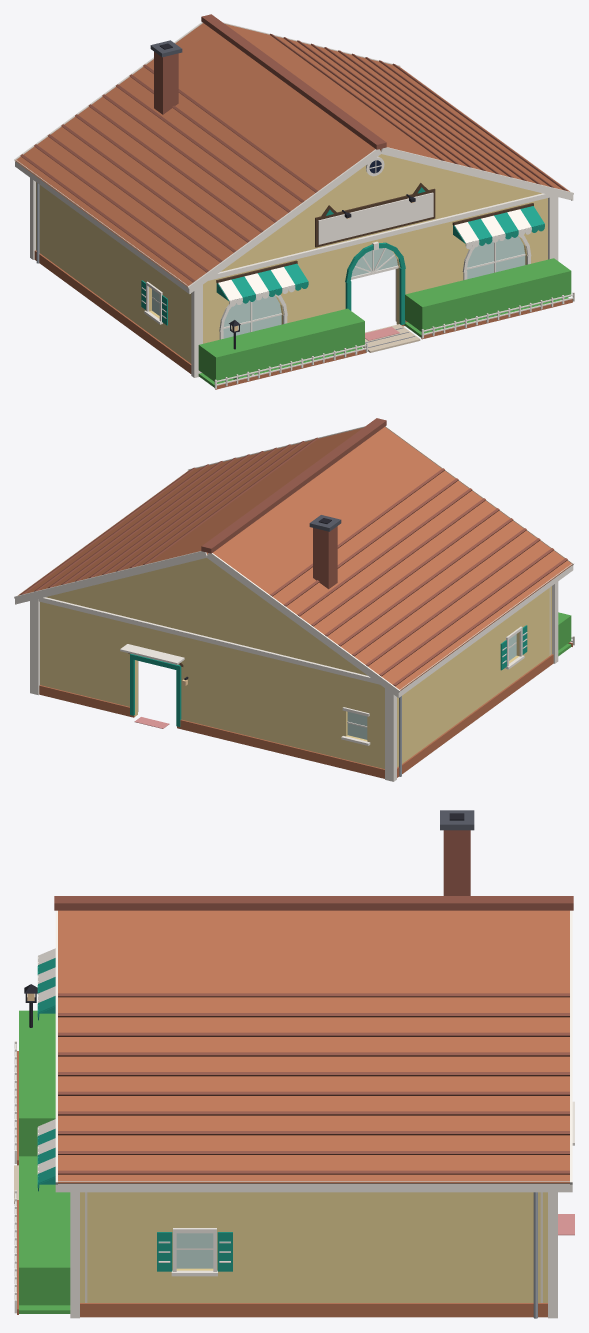
The model's file is CatCafe_Plot_Cafe_Butter_48x37.glb.
3 renders of one model, top to bottom at view 1: azimuth 30°, elevation 25°; view 2: azimuth 150°, elevation 25°; view 3: azimuth 270°, elevation 25°, orthographic. The views are drawn at different scales.
Parts seen in each view (by area): view 1: CatCafe_Plot_Cafe_Butter_48x37_Roof, CatCafe_Plot_Cafe_Butter_48x37_Paint, CatCafe_Plot_Cafe_Butter_48x37_Fireflies, CatCafe_Plot_Cafe_Butter_48x37_Trim, CatCafe_Plot_Cafe_Butter_48x37_Roof_Trim, CatCafe_Plot_Cafe_Butter_48x37_Awning, CatCafe_Plot_Cafe_Butter_48x37_Glass, CatCafe_Plot_Cafe_Butter_48x37, CatCafe_Plot_Cafe_Butter_48x37_Garden, CatCafe_Plot_Cafe_Butter_48x37_SignBoard, CatCafe_Plot_Cafe_Butter_48x37_Path, CatCafe_Plot_Cafe_Butter_48x37_Flowers; view 2: CatCafe_Plot_Cafe_Butter_48x37_Roof, CatCafe_Plot_Cafe_Butter_48x37_Paint, CatCafe_Plot_Cafe_Butter_48x37_Trim, CatCafe_Plot_Cafe_Butter_48x37_Roof_Trim, CatCafe_Plot_Cafe_Butter_48x37, CatCafe_Plot_Cafe_Butter_48x37_Glass; view 3: CatCafe_Plot_Cafe_Butter_48x37_Roof, CatCafe_Plot_Cafe_Butter_48x37_Paint, CatCafe_Plot_Cafe_Butter_48x37_Fireflies, CatCafe_Plot_Cafe_Butter_48x37, CatCafe_Plot_Cafe_Butter_48x37_Roof_Trim, CatCafe_Plot_Cafe_Butter_48x37_Trim, CatCafe_Plot_Cafe_Butter_48x37_Awning, CatCafe_Plot_Cafe_Butter_48x37_Garden, CatCafe_Plot_Cafe_Butter_48x37_Glass, CatCafe_Plot_Cafe_Butter_48x37_Wallpaper.
Part boxes in pixels (bbox=[...]): CatCafe_Plot_Cafe_Butter_48x37_Roof: bbox=[15, 14, 569, 286]; CatCafe_Plot_Cafe_Butter_48x37_Paint: bbox=[36, 154, 547, 363]; CatCafe_Plot_Cafe_Butter_48x37_Fireflies: bbox=[198, 258, 571, 382]; CatCafe_Plot_Cafe_Butter_48x37_Trim: bbox=[30, 156, 558, 377]; CatCafe_Plot_Cafe_Butter_48x37_Roof_Trim: bbox=[14, 22, 573, 293]; CatCafe_Plot_Cafe_Butter_48x37_Awning: bbox=[216, 206, 544, 306]; CatCafe_Plot_Cafe_Butter_48x37_Glass: bbox=[152, 236, 525, 338]; CatCafe_Plot_Cafe_Butter_48x37: bbox=[34, 160, 525, 373]; CatCafe_Plot_Cafe_Butter_48x37_Garden: bbox=[214, 292, 574, 389]; CatCafe_Plot_Cafe_Butter_48x37_SignBoard: bbox=[318, 192, 433, 244]; CatCafe_Plot_Cafe_Butter_48x37_Path: bbox=[363, 324, 420, 352]; CatCafe_Plot_Cafe_Butter_48x37_Flowers: bbox=[198, 297, 568, 387]; CatCafe_Plot_Cafe_Butter_48x37_Roof: bbox=[18, 418, 572, 690]; CatCafe_Plot_Cafe_Butter_48x37_Paint: bbox=[40, 558, 551, 768]; CatCafe_Plot_Cafe_Butter_48x37_Trim: bbox=[30, 581, 558, 781]; CatCafe_Plot_Cafe_Butter_48x37_Roof_Trim: bbox=[14, 426, 573, 697]; CatCafe_Plot_Cafe_Butter_48x37: bbox=[39, 625, 553, 778]; CatCafe_Plot_Cafe_Butter_48x37_Glass: bbox=[347, 634, 516, 739]; CatCafe_Plot_Cafe_Butter_48x37_Roof: bbox=[54, 810, 573, 1183]; CatCafe_Plot_Cafe_Butter_48x37_Paint: bbox=[80, 1192, 547, 1302]; CatCafe_Plot_Cafe_Butter_48x37_Fireflies: bbox=[19, 1010, 70, 1305]; CatCafe_Plot_Cafe_Butter_48x37: bbox=[80, 1192, 574, 1318]; CatCafe_Plot_Cafe_Butter_48x37_Roof_Trim: bbox=[55, 910, 572, 1192]; CatCafe_Plot_Cafe_Butter_48x37_Trim: bbox=[70, 1101, 574, 1318]; CatCafe_Plot_Cafe_Butter_48x37_Awning: bbox=[37, 948, 55, 1191]; CatCafe_Plot_Cafe_Butter_48x37_Garden: bbox=[14, 984, 37, 1314]; CatCafe_Plot_Cafe_Butter_48x37_Glass: bbox=[176, 1233, 213, 1268]; CatCafe_Plot_Cafe_Butter_48x37_Wallpaper: bbox=[85, 1192, 542, 1302].
Size of the model in its own units: 53.86 by 28.2 by 45.8.
Materials: 1 (1 with a texture image).
